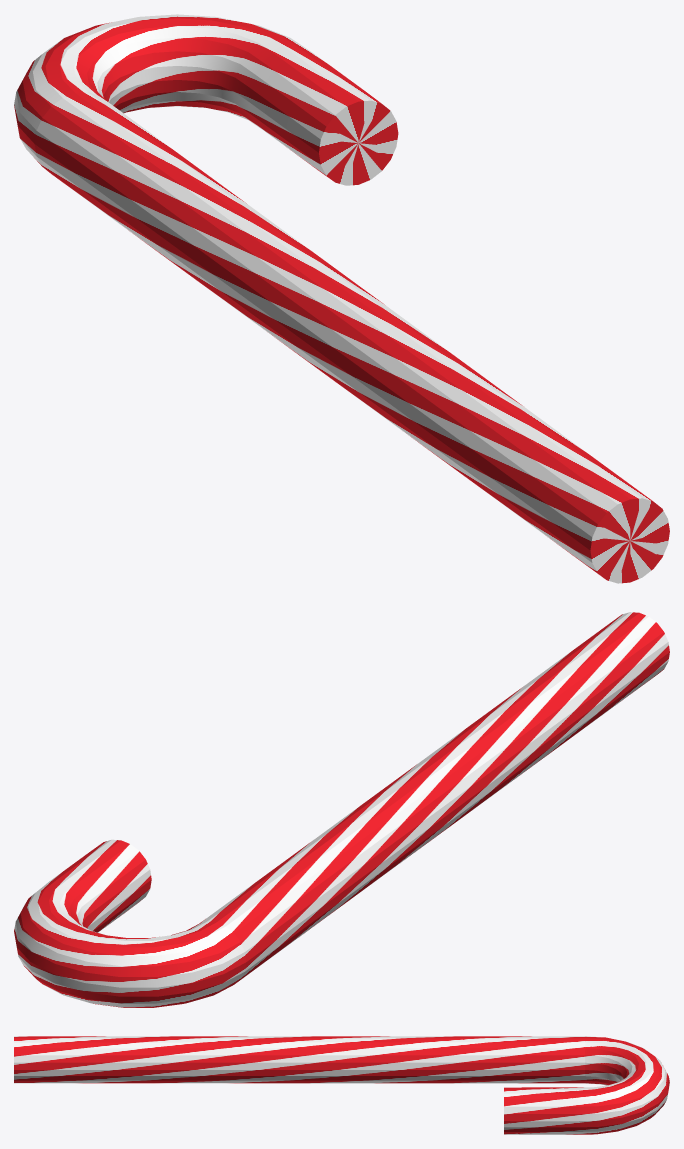
Rendered from Candy Cane.glb.
3 renders of one model, top to bottom at view 1: azimuth 30°, elevation 25°; view 2: azimuth 150°, elevation 25°; view 3: azimuth 270°, elevation 25°, orthographic. The views are drawn at different scales.
Parts seen in each view (by area): view 1: Peppermint_Candy_Cane; view 2: Peppermint_Candy_Cane; view 3: Peppermint_Candy_Cane.
Boxes of the visible parts, x1,y1,x2,y2 form: Peppermint_Candy_Cane: [14, 14, 669, 583]; Peppermint_Candy_Cane: [14, 612, 669, 1007]; Peppermint_Candy_Cane: [14, 1036, 669, 1134].
Bounding box in the file's own units: 0.1064 × 0.03 × 0.413.
1 material, 1 textured.
